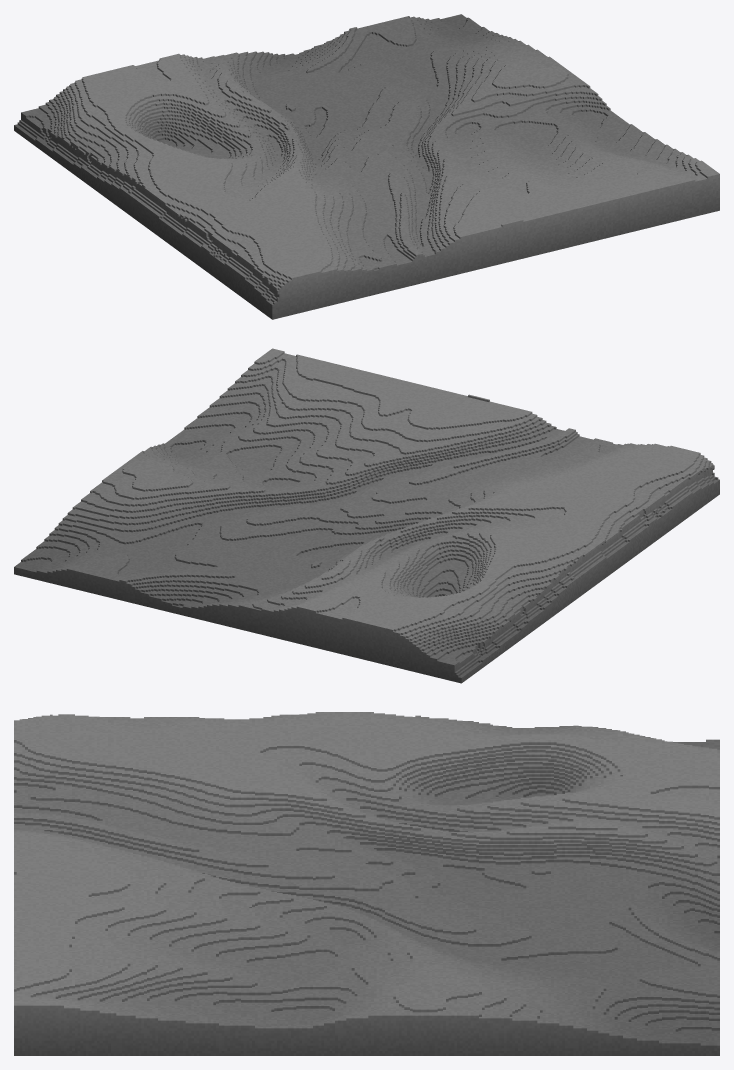
File: LunaGrande-12.obj
3 views of the same model, one above another, from view 1: azimuth 30°, elevation 25°; view 2: azimuth 150°, elevation 25°; view 3: azimuth 270°, elevation 25° (orthographic). The views are drawn at different scales.
Bounding box in the file's own units: 25.5 × 2.1 × 25.5.
Materials: 1 (1 with a texture image).
